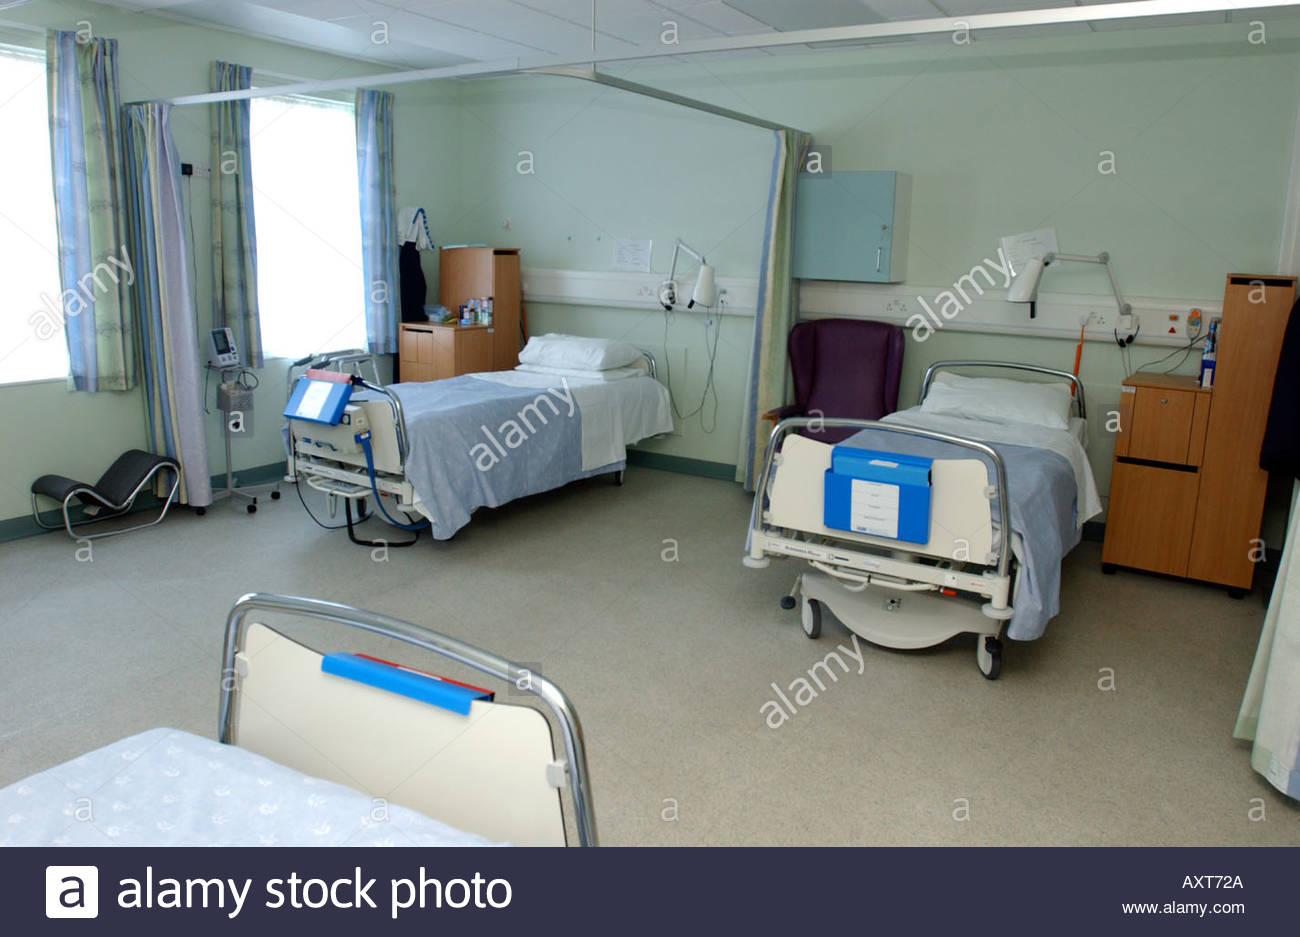hospital bed: (724, 354, 1105, 613), (269, 332, 675, 499)
